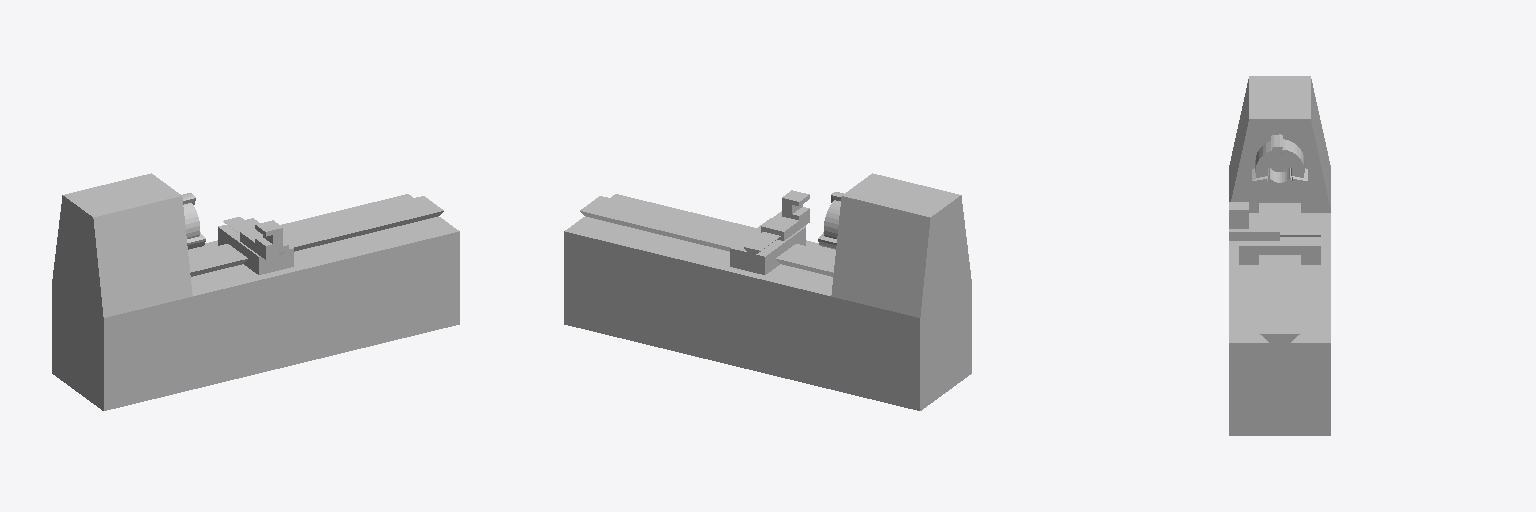
File: maschine1.obj
3 renders of one model, left to right at view 1: azimuth 30°, elevation 25°; view 2: azimuth 150°, elevation 25°; view 3: azimuth 270°, elevation 25°, orthographic.
Size of the model in its own units: 4 by 2 by 1.